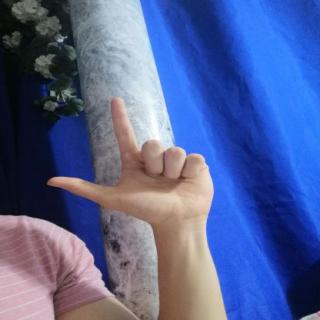LAAM: (34, 88, 225, 235)
